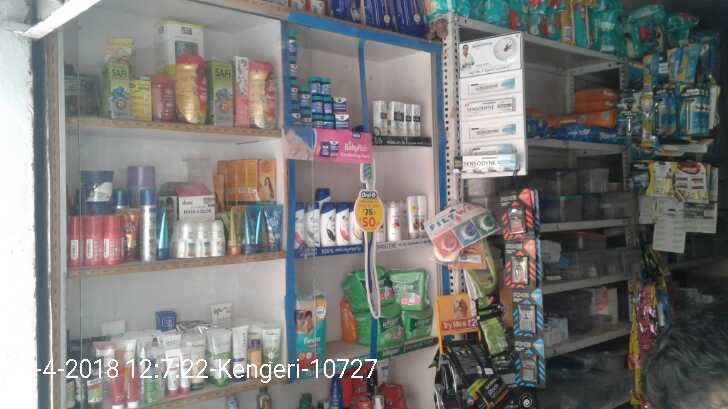vicks: (287, 31, 335, 129), (335, 93, 351, 129)
